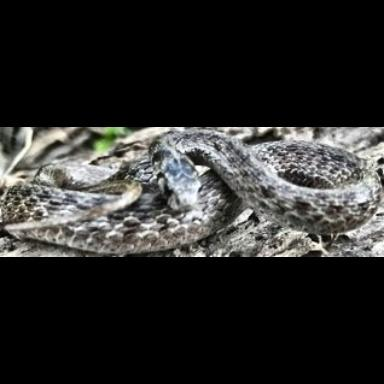snake: (2, 128, 384, 257)
